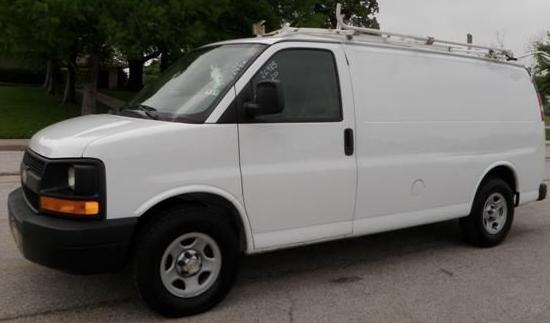front_view: (6, 127, 113, 278)
headlight: (41, 156, 106, 221)
side_glass: (214, 48, 350, 128)
